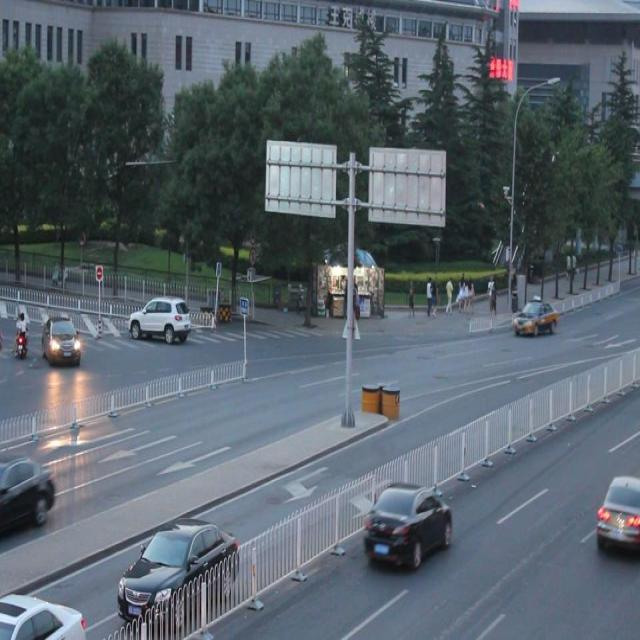car: (115, 512, 240, 615), (363, 477, 453, 572), (0, 586, 88, 640), (1, 454, 57, 537), (593, 470, 640, 553), (128, 293, 190, 343), (43, 313, 82, 364), (513, 298, 556, 333)
